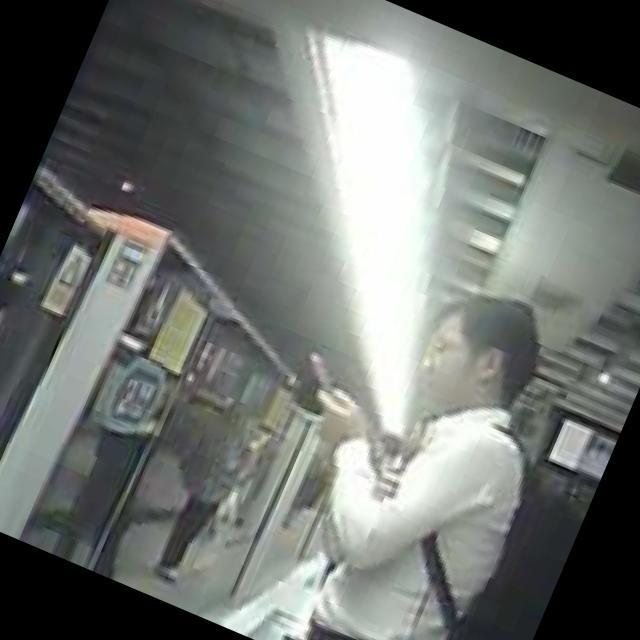person: (217, 238, 597, 640)
